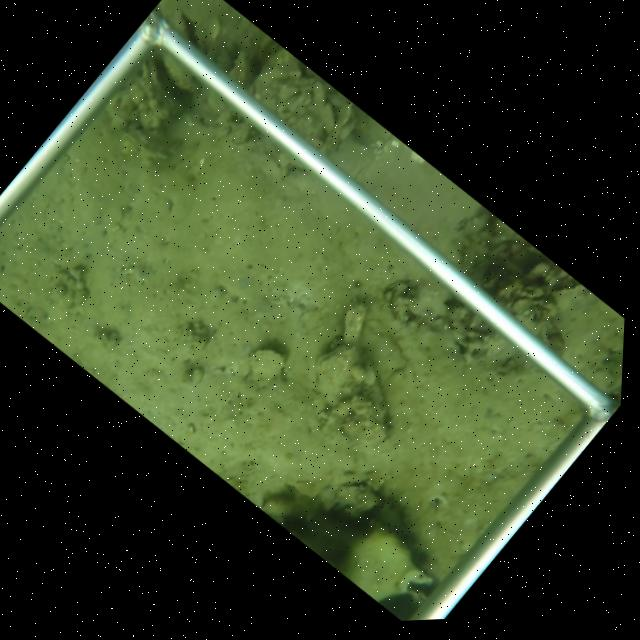Oyster-Closed: (311, 343, 396, 457), (547, 280, 586, 298)
